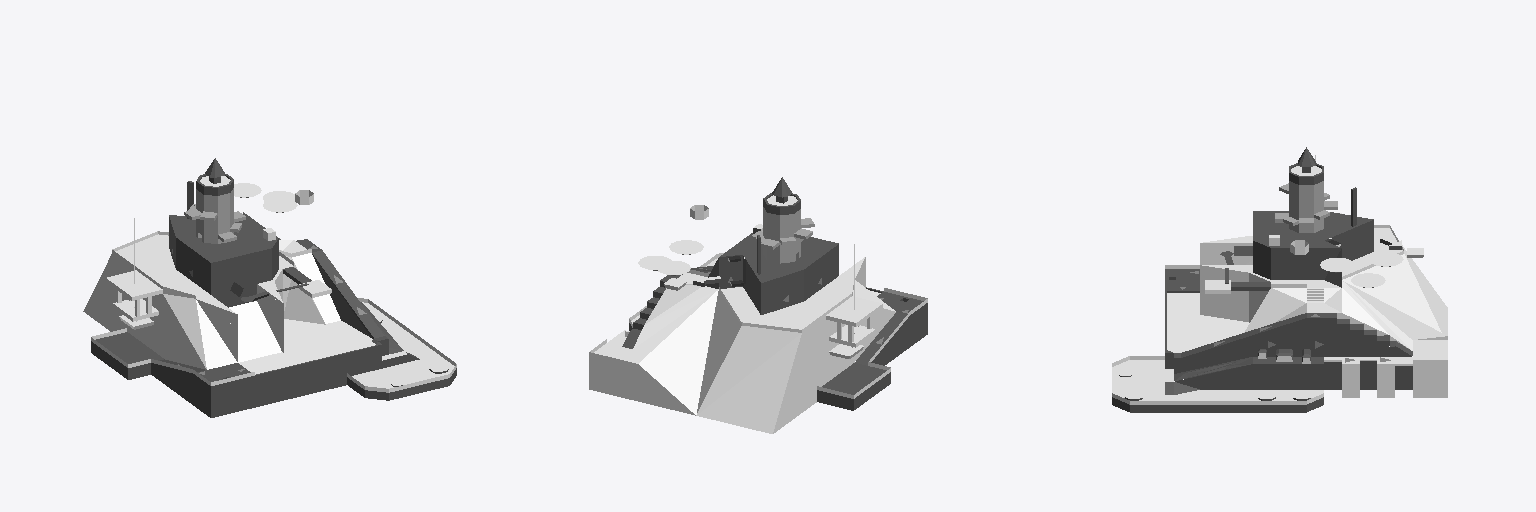
3 renders of one model, left to right at view 1: azimuth 30°, elevation 25°; view 2: azimuth 150°, elevation 25°; view 3: azimuth 270°, elevation 25°, orthographic.
Visible parts, largest first — view 1: WF_WF_P1_VMtl013, WF_WF_P1_VMtl018, WF_WF_P1_VMtl012, WF_WF_P1_VMtl017, WF_WF_P1_VMtl022, WF_WF_P1_VMtl066, WF_WF_P1_VMtl015, WF_WF_P1_VMtl035, WF_WF_P1_VMtl014, WF_WF_P1_VMtl055, WF_WF_P1_VMtl016, WF_WF_P7_VMtl060 (+1 smaller); view 2: WF_WF_P1_VMtl013, WF_WF_P1_VMtl012, WF_WF_P1_VMtl018, WF_WF_P1_VMtl017, WF_WF_P1_VMtl035, WF_WF_P1_VMtl015, WF_WF_P1_VMtl055, WF_WF_P1_VMtl022, WF_WF_P1_VMtl034; view 3: WF_WF_P1_VMtl013, WF_WF_P1_VMtl018, WF_WF_P1_VMtl022, WF_WF_P1_VMtl010, WF_WF_P1_VMtl012, WF_WF_P1_VMtl017, WF_WF_P1_VMtl066, WF_WF_P1_VMtl015, WF_WF_P1_VMtl035, WF_WF_P1_VMtl016, WF_WF_P7_VMtl060, WF_WF_P1_VMtl055 (+1 smaller).
Part boxes in pixels (left/top/right/bottom): WF_WF_P1_VMtl013: left=83, top=253, right=340, bottom=369; WF_WF_P1_VMtl018: left=91, top=239, right=388, bottom=417; WF_WF_P1_VMtl012: left=107, top=234, right=330, bottom=326; WF_WF_P1_VMtl017: left=169, top=217, right=278, bottom=307; WF_WF_P1_VMtl022: left=234, top=183, right=454, bottom=388; WF_WF_P1_VMtl066: left=239, top=319, right=375, bottom=374; WF_WF_P1_VMtl015: left=169, top=212, right=311, bottom=378; WF_WF_P1_VMtl035: left=184, top=188, right=245, bottom=243; WF_WF_P1_VMtl014: left=229, top=301, right=281, bottom=362; WF_WF_P1_VMtl055: left=91, top=190, right=313, bottom=385; WF_WF_P1_VMtl016: left=240, top=197, right=456, bottom=400; WF_WF_P7_VMtl060: left=347, top=298, right=456, bottom=392; WF_WF_P1_VMtl013: left=589, top=257, right=895, bottom=433; WF_WF_P1_VMtl012: left=594, top=257, right=882, bottom=363; WF_WF_P1_VMtl018: left=622, top=266, right=927, bottom=410; WF_WF_P1_VMtl017: left=705, top=244, right=838, bottom=314; WF_WF_P1_VMtl035: left=751, top=207, right=814, bottom=263; WF_WF_P1_VMtl015: left=720, top=233, right=908, bottom=301; WF_WF_P1_VMtl055: left=589, top=205, right=927, bottom=398; WF_WF_P1_VMtl022: left=631, top=240, right=720, bottom=323; WF_WF_P1_VMtl034: left=763, top=177, right=800, bottom=214; WF_WF_P1_VMtl013: left=1200, top=243, right=1447, bottom=397; WF_WF_P1_VMtl018: left=1165, top=269, right=1412, bottom=389; WF_WF_P1_VMtl022: left=1112, top=236, right=1403, bottom=400; WF_WF_P1_VMtl010: left=1174, top=357, right=1323, bottom=394; WF_WF_P1_VMtl012: left=1202, top=213, right=1447, bottom=363; WF_WF_P1_VMtl017: left=1253, top=220, right=1373, bottom=287; WF_WF_P1_VMtl066: left=1167, top=293, right=1249, bottom=352; WF_WF_P1_VMtl015: left=1169, top=211, right=1373, bottom=290; WF_WF_P1_VMtl035: left=1275, top=181, right=1337, bottom=232; WF_WF_P1_VMtl016: left=1112, top=239, right=1401, bottom=412; WF_WF_P7_VMtl060: left=1112, top=356, right=1323, bottom=404; WF_WF_P1_VMtl055: left=1165, top=225, right=1447, bottom=363.
Bounding box in the file's own units: 0.8205 × 0.5954 × 0.9506.